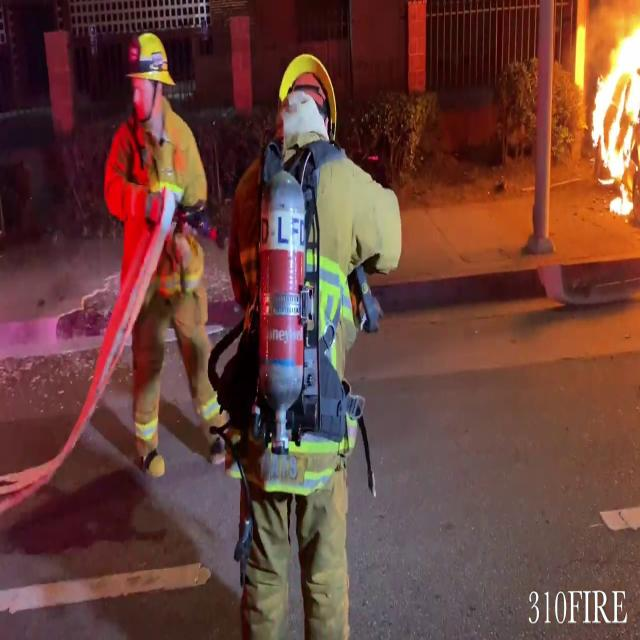Fire: (584, 3, 640, 216)
